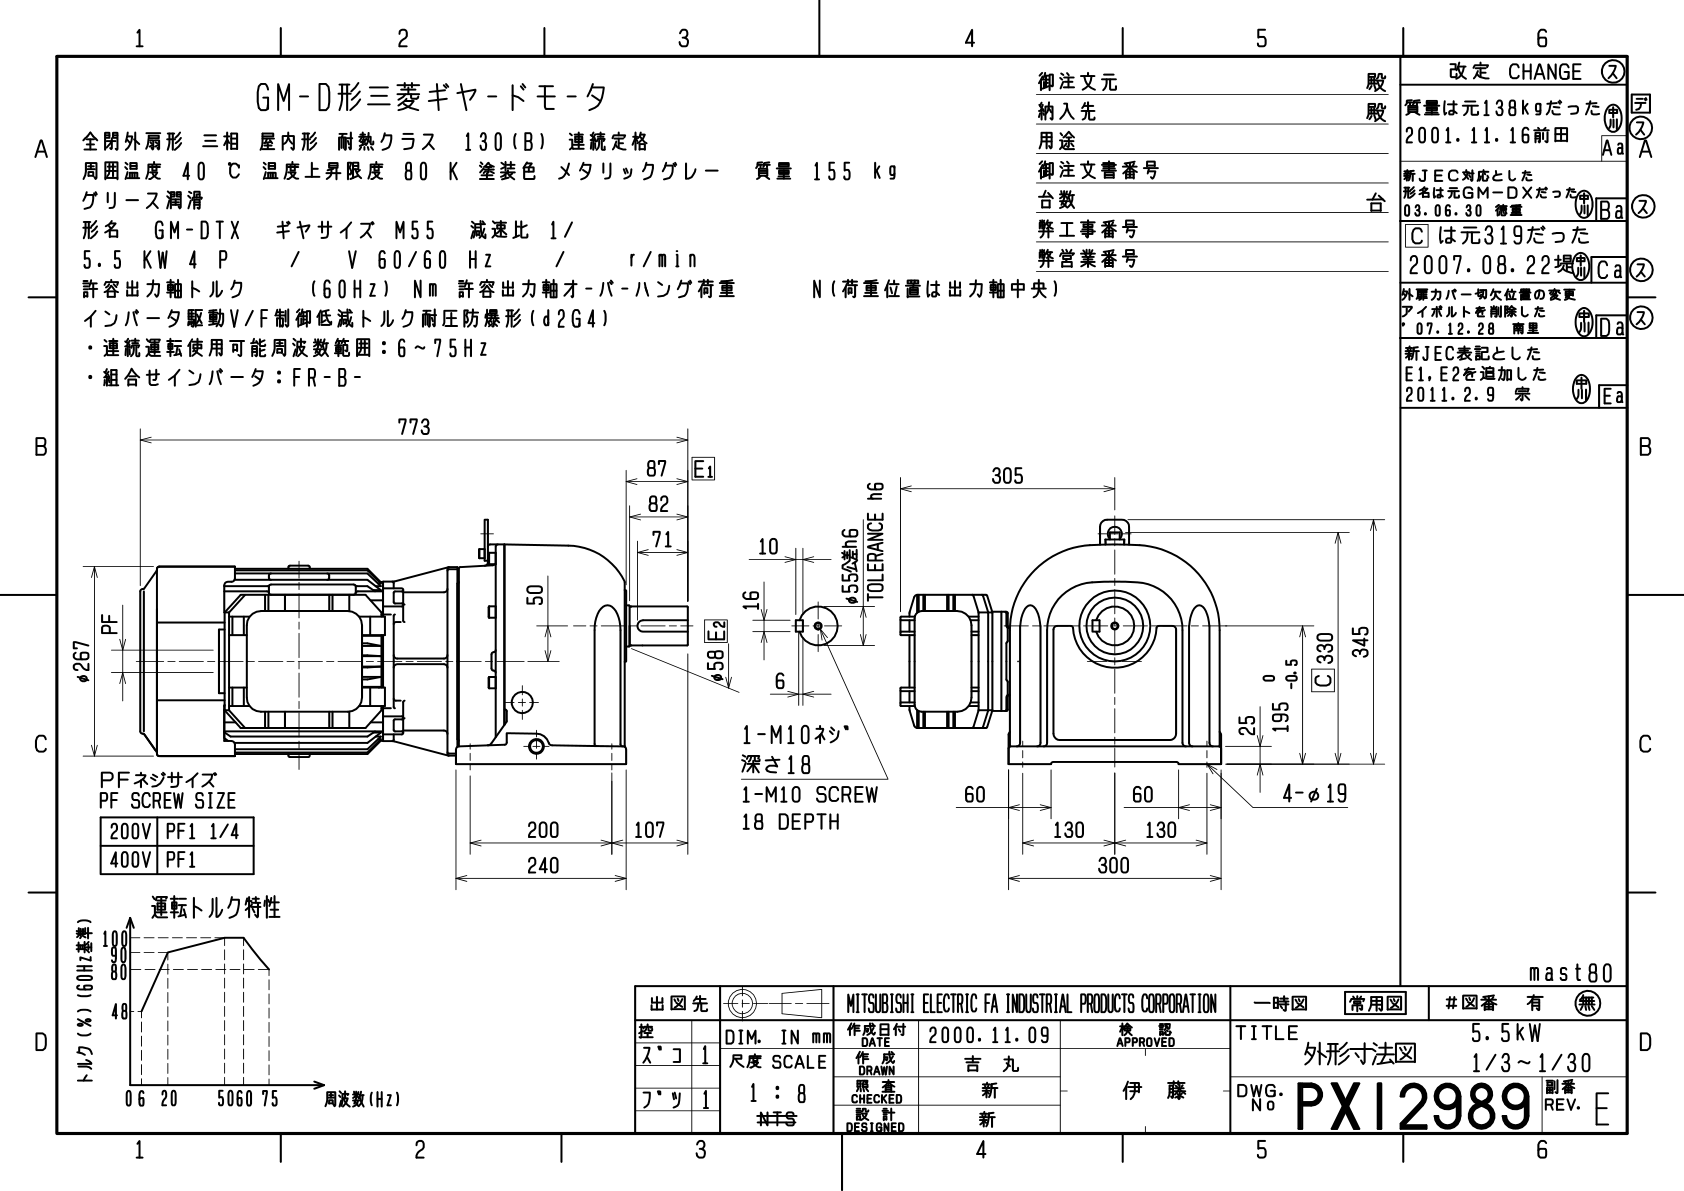GM_D_制御屋内_三相_脚: (1, 1, 1674, 1179)
